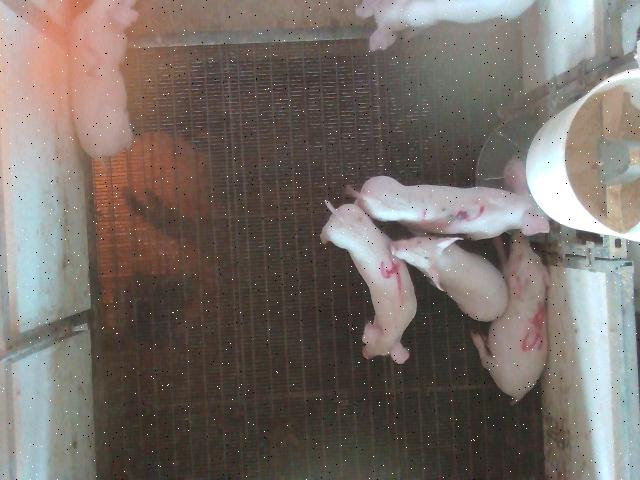pig-2: (70, 1, 138, 160)
pig-3: (348, 159, 549, 240)
pig-4: (321, 202, 416, 364)
pig-5: (472, 232, 549, 404)
